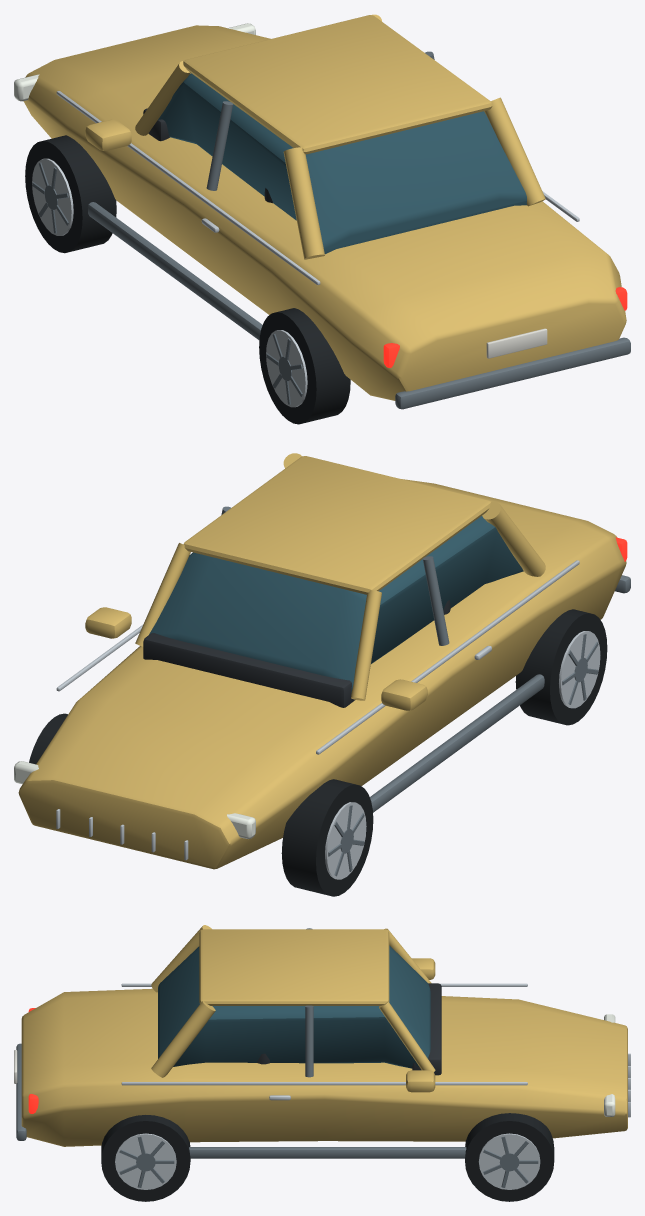
The model's file is Metro_Taxi.fbx.
3 renders of one model, top to bottom at view 1: azimuth 30°, elevation 25°; view 2: azimuth 150°, elevation 25°; view 3: azimuth 270°, elevation 25°, orthographic. The views are drawn at different scales.
Parts seen in each view (by area): view 1: Body.008, Wheel_LF.008, Wheel_LR.008; view 2: Body.008, Wheel_LF.008, Wheel_LR.008, Wheel_RF.008; view 3: Body.008, Wheel_RF.008, Wheel_RR.008.
Part boxes in pixels (left/top/right/bottom): Body.008: left=23, top=14, right=630, bottom=409; Wheel_LF.008: left=25, top=135, right=116, bottom=253; Wheel_LR.008: left=259, top=308, right=350, bottom=424; Body.008: left=18, top=453, right=630, bottom=869; Wheel_LF.008: left=281, top=779, right=373, bottom=896; Wheel_LR.008: left=515, top=609, right=607, bottom=725; Wheel_RF.008: left=29, top=713, right=67, bottom=764; Body.008: left=14, top=925, right=630, bottom=1158; Wheel_RF.008: left=465, top=1113, right=554, bottom=1201; Wheel_RR.008: left=101, top=1115, right=190, bottom=1201.
Bounding box in the file's own units: 2.31 × 1.58 × 4.83.
